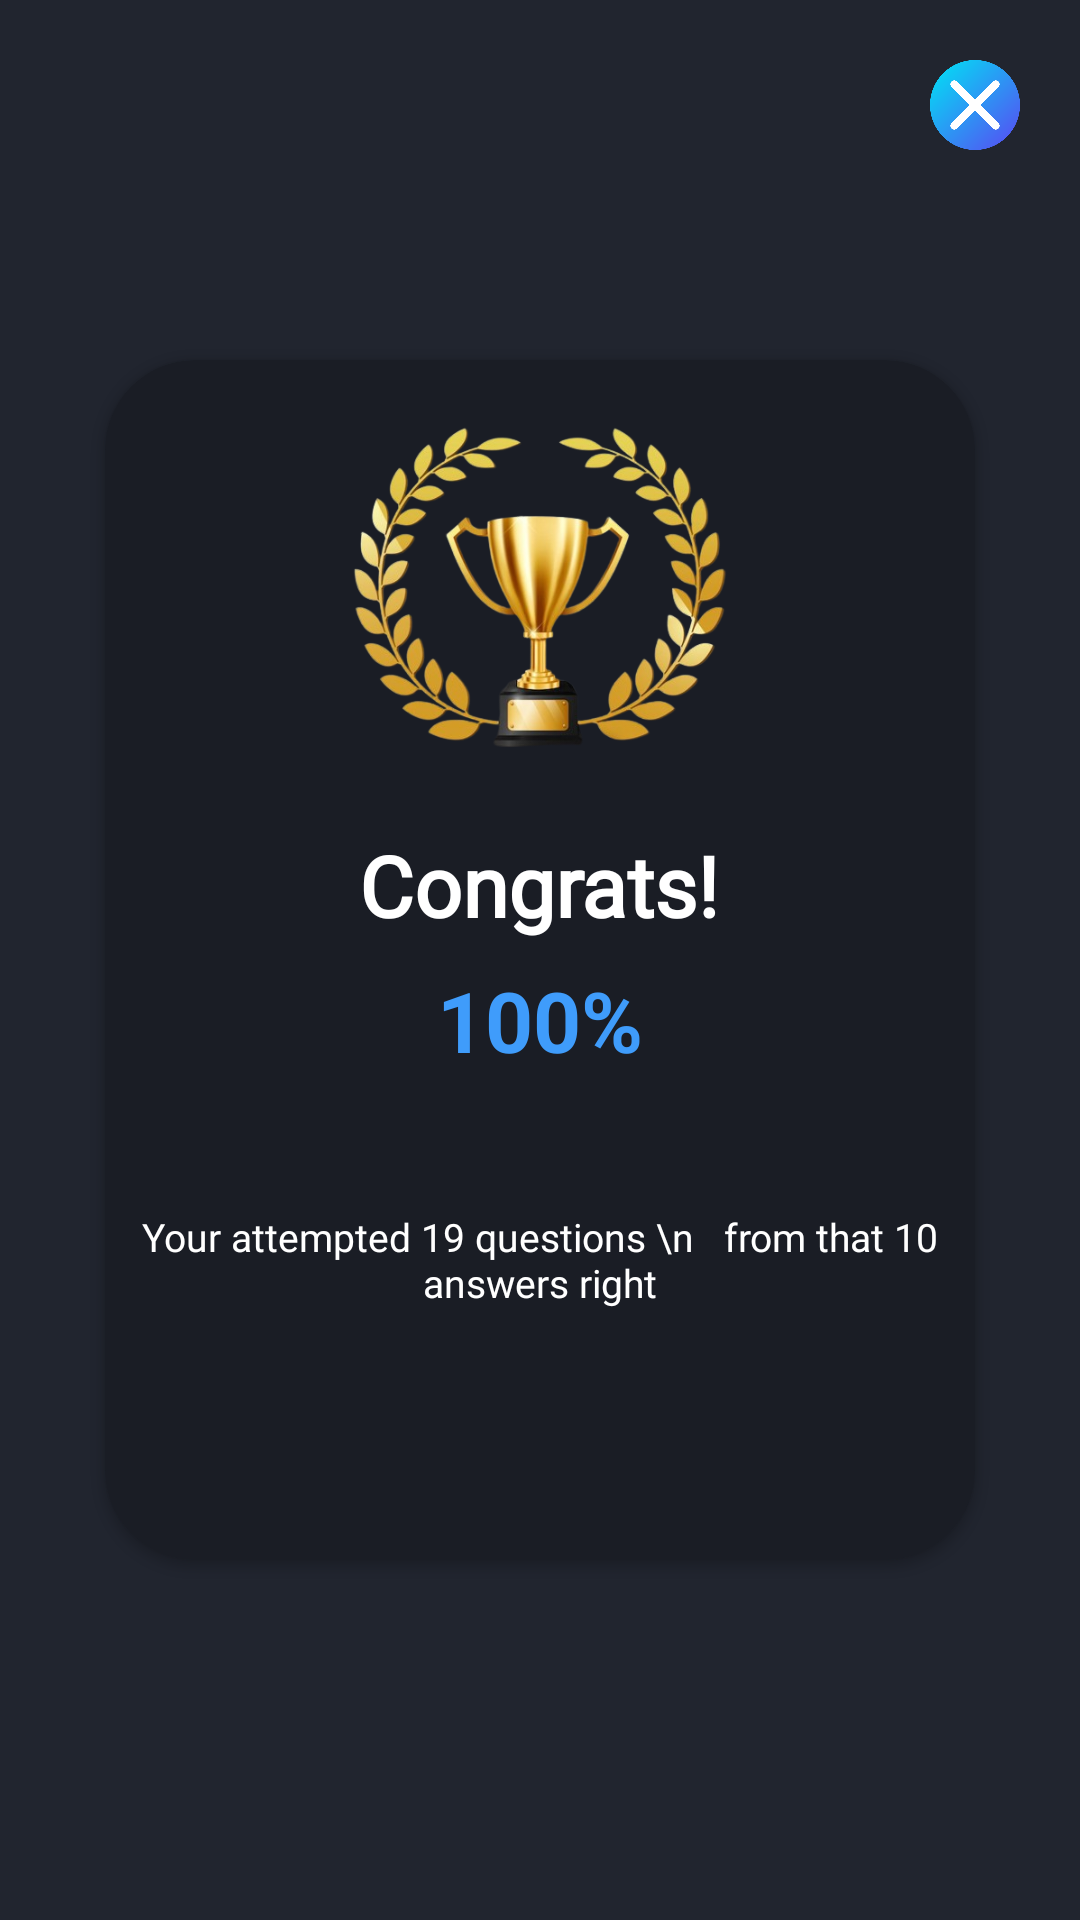

Icon bounding boxes for this 1080px×1920px phone screenshot, format (x1,y1,x2,y2):
cancel: (930,60,1020,150)
